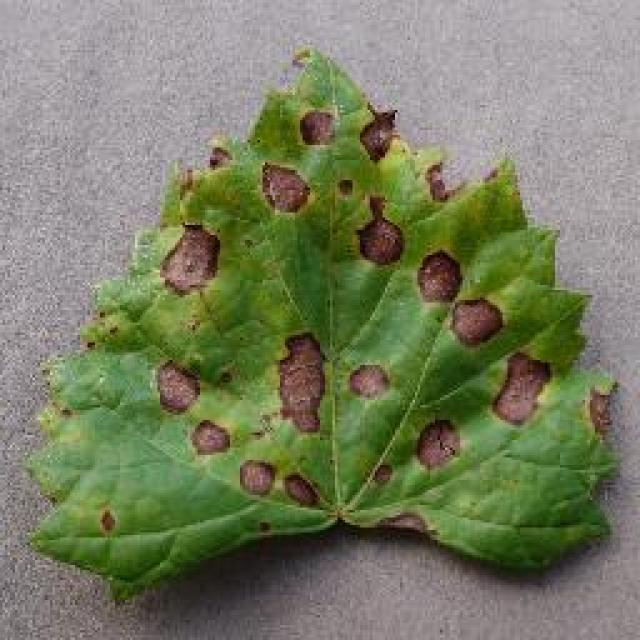Grape___Black_rot: (20, 41, 623, 610)
